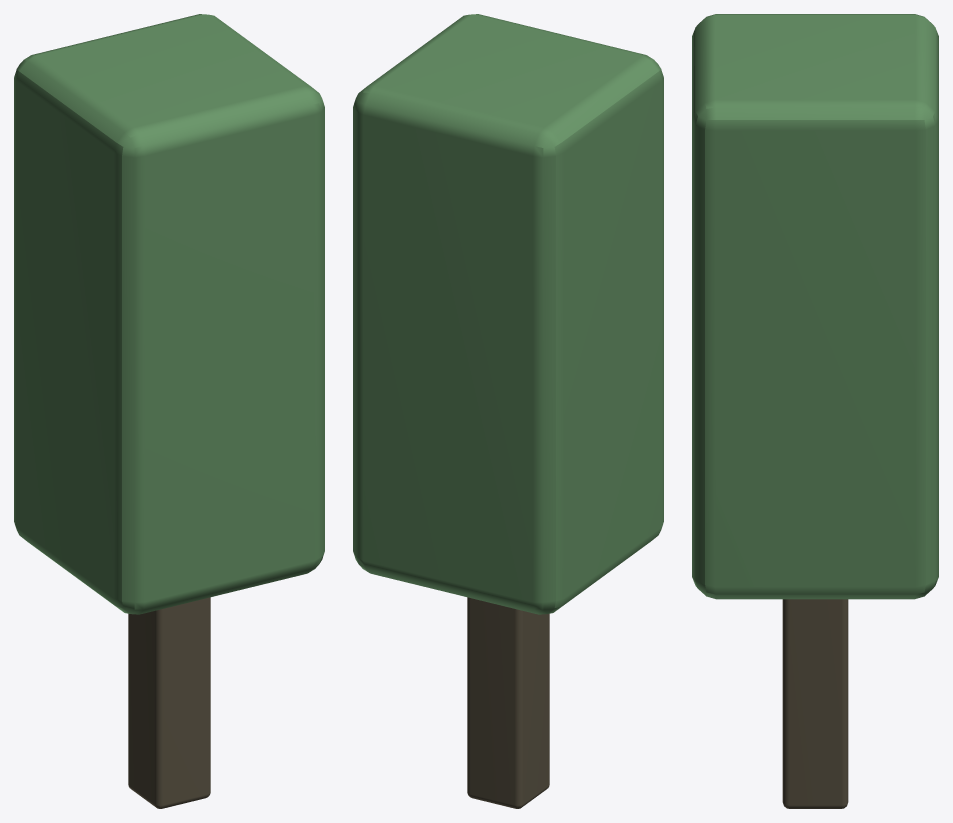
File: Tree_004.fbx
The picture shows the model from 3 angles, left to right: view 1: azimuth 30°, elevation 25°; view 2: azimuth 150°, elevation 25°; view 3: azimuth 270°, elevation 25°; orthographic projection. The views are drawn at different scales.
Visible parts, largest first — view 1: tree_004; view 2: tree_004; view 3: tree_004.
Boxes of the visible parts, x1,y1,x2,y2 form: tree_004: (14, 14, 324, 808); tree_004: (353, 14, 663, 808); tree_004: (692, 14, 938, 808).
Bounding box in the file's own units: 0.924 × 3.06 × 0.924.
